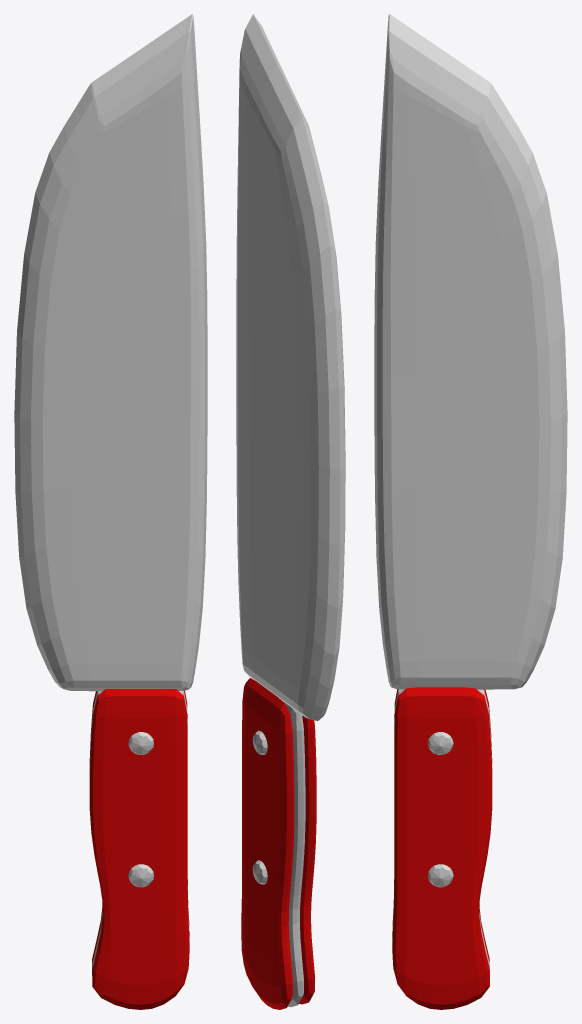
Rendered from knife.fbx.
3 views of the same model, side by side, from view 1: azimuth 90°, elevation 25°; view 2: azimuth 210°, elevation 25°; view 3: azimuth 270°, elevation 25° (orthographic). The views are drawn at different scales.
Parts seen in each view (by area): view 1: Cube.056; view 2: Cube.056; view 3: Cube.056.
Boxes of the visible parts, bbox=[...] form: Cube.056: bbox=[14, 14, 207, 1009]; Cube.056: bbox=[236, 14, 345, 1009]; Cube.056: bbox=[374, 14, 567, 1009].
Bounding box in the file's own units: 14.17 × 293 × 51.83.
